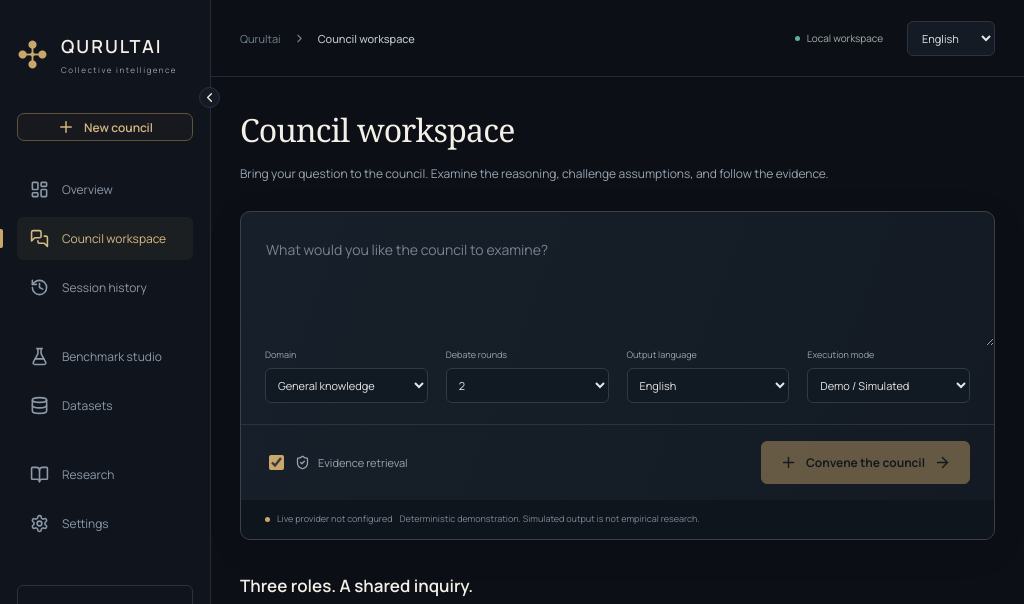
Test: submits exact session options and shows API failures
Type "Does evidence improve reasoning?" into the text box named "Your question".
click(618, 279); type("Does evidence improve reasoning?")  # box x1=241 y1=212 x2=994 y2=346
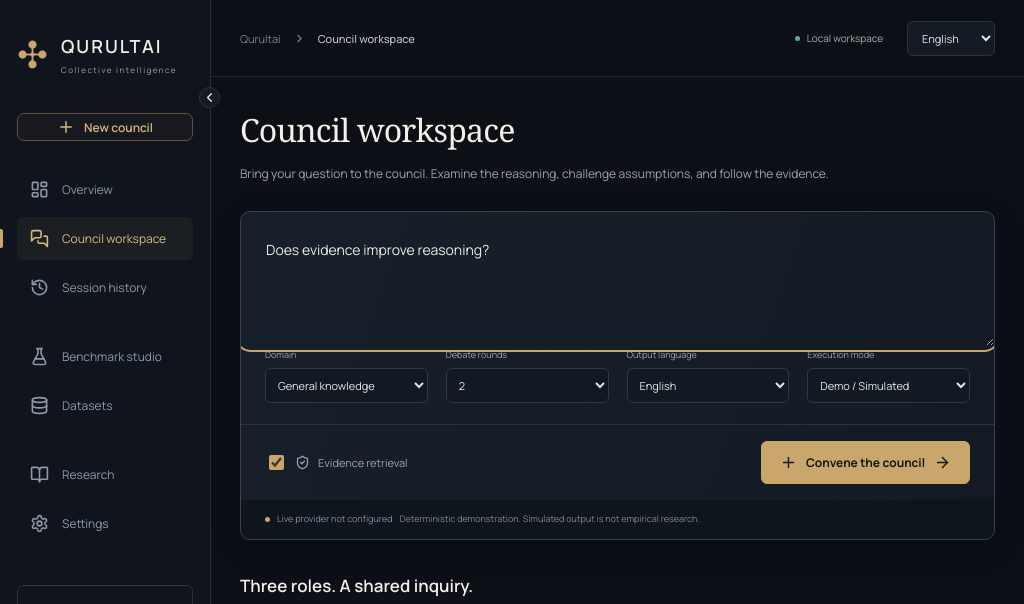
Click the button "Convene the council".
click(865, 463)  # box x1=761 y1=441 x2=970 y2=484
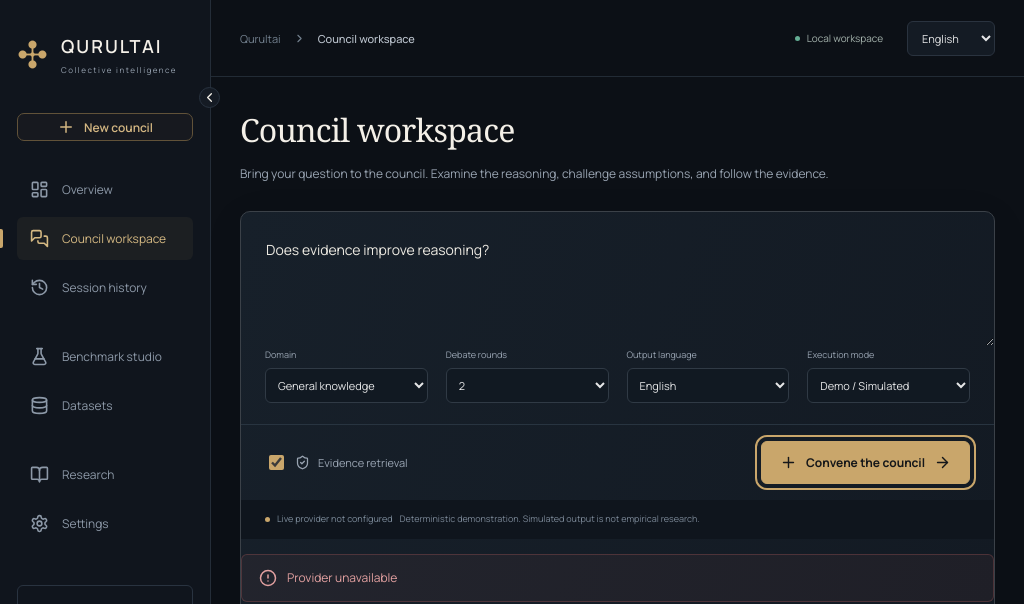
expect the message reads "Provider unavailable": met, box x1=287 y1=569 x2=397 y2=586
